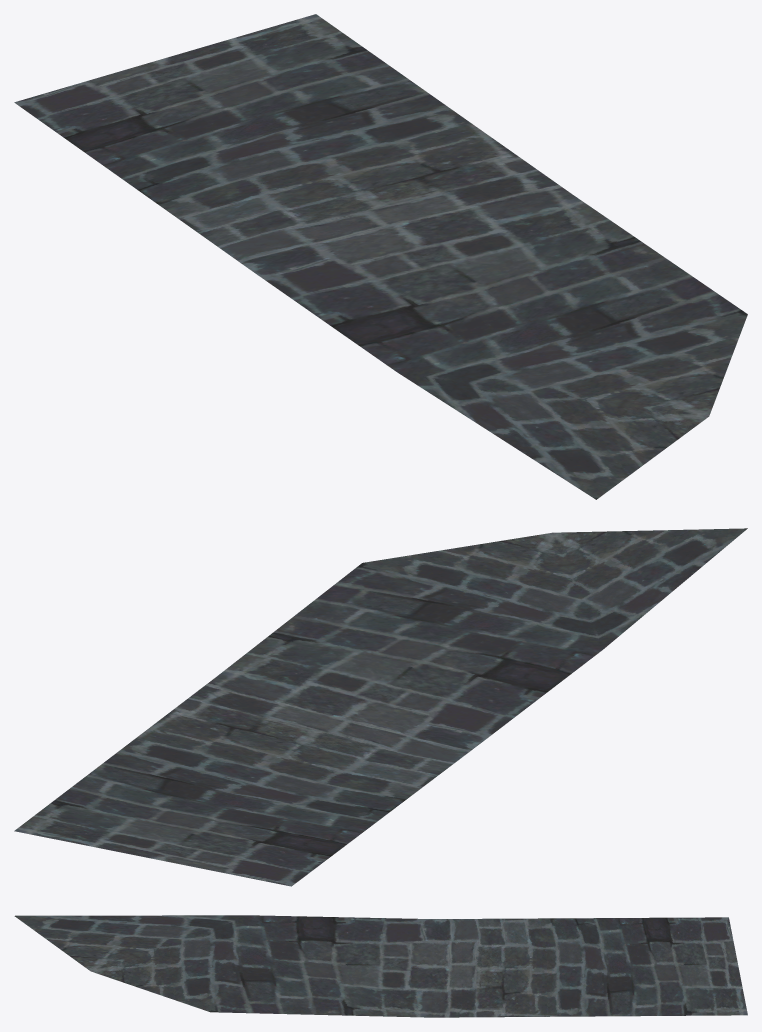
The model's file is menu_blend_brick04.fbx.
3 renders of one model, top to bottom at view 1: azimuth 30°, elevation 25°; view 2: azimuth 150°, elevation 25°; view 3: azimuth 270°, elevation 25°, orthographic. The views are drawn at different scales.
Parts seen in each view (by area): view 1: new_stone/brick_blend_shadow; view 2: new_stone/brick_blend_shadow; view 3: new_stone/brick_blend_shadow.
Part boxes in pixels (bbox=[...]): new_stone/brick_blend_shadow: bbox=[14, 14, 747, 499]; new_stone/brick_blend_shadow: bbox=[14, 528, 747, 886]; new_stone/brick_blend_shadow: bbox=[14, 915, 747, 1017].
Bounding box in the file's own units: 2.54 × 0.0837 × 7.85.
